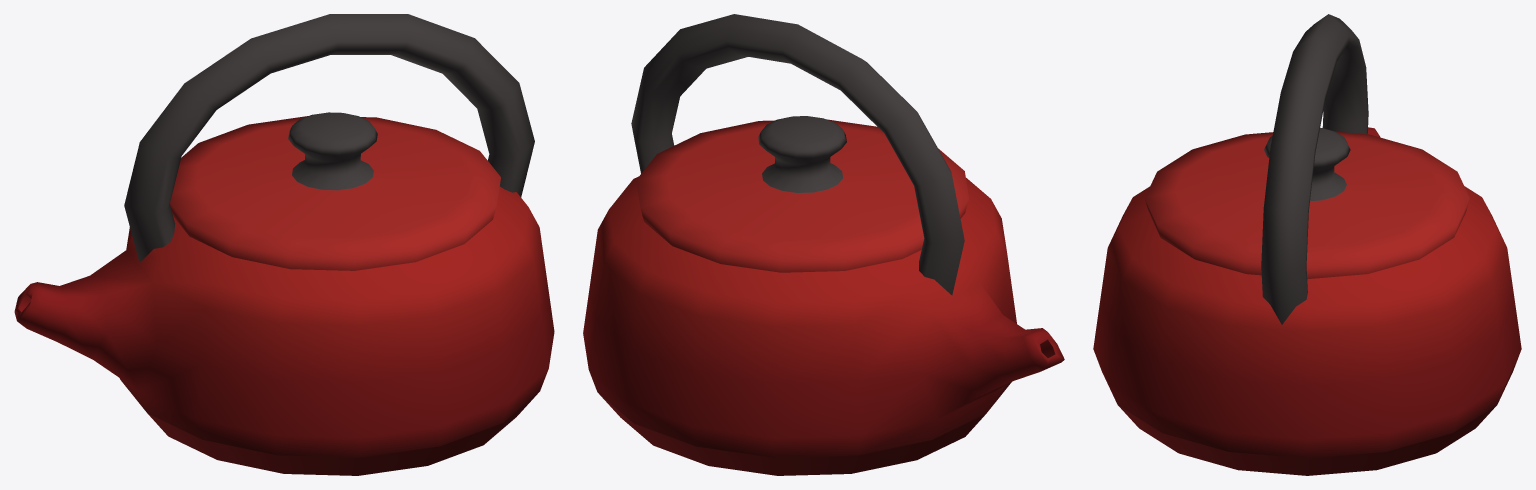
File: kettle.fbx
3 renders of one model, left to right at view 1: azimuth 30°, elevation 25°; view 2: azimuth 150°, elevation 25°; view 3: azimuth 270°, elevation 25°, orthographic. The views are drawn at different scales.
Visible parts, largest first — view 1: kettle; view 2: kettle; view 3: kettle.
Part boxes in pixels (bbox=[...]): kettle: bbox=[14, 14, 554, 475]; kettle: bbox=[583, 14, 1064, 475]; kettle: bbox=[1093, 14, 1521, 475].
Bounding box in the file's own units: 557 × 417 × 446.
